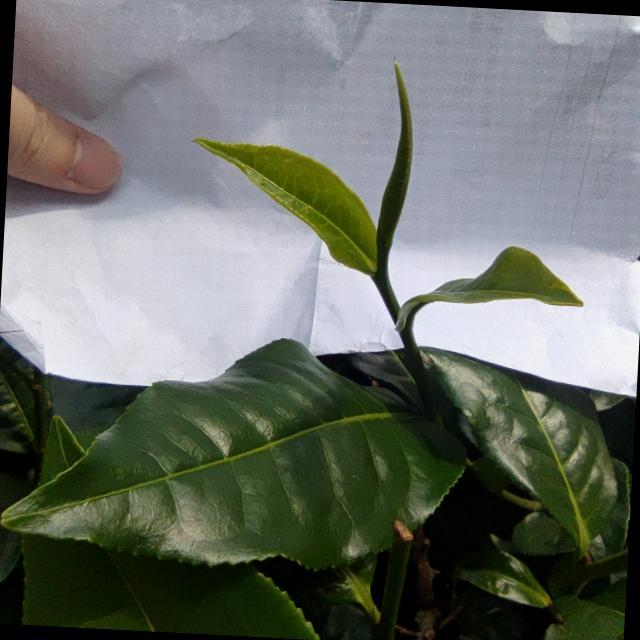Stem: (374, 273, 390, 286)
